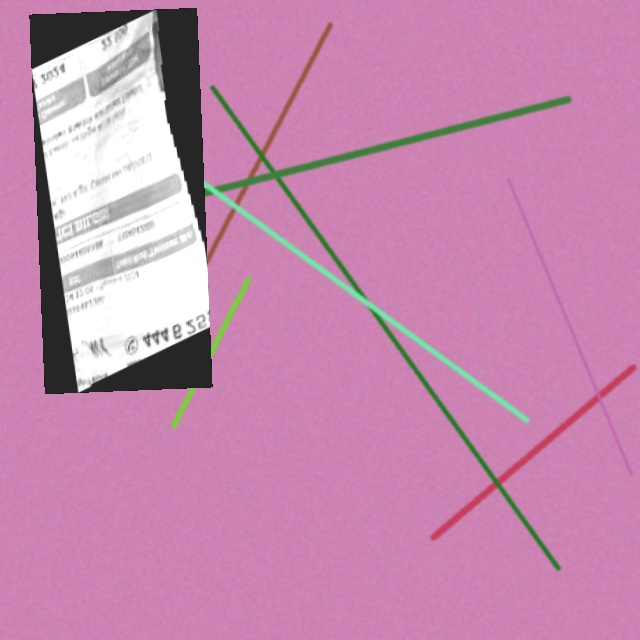electricity-bill: (28, 7, 212, 393)
